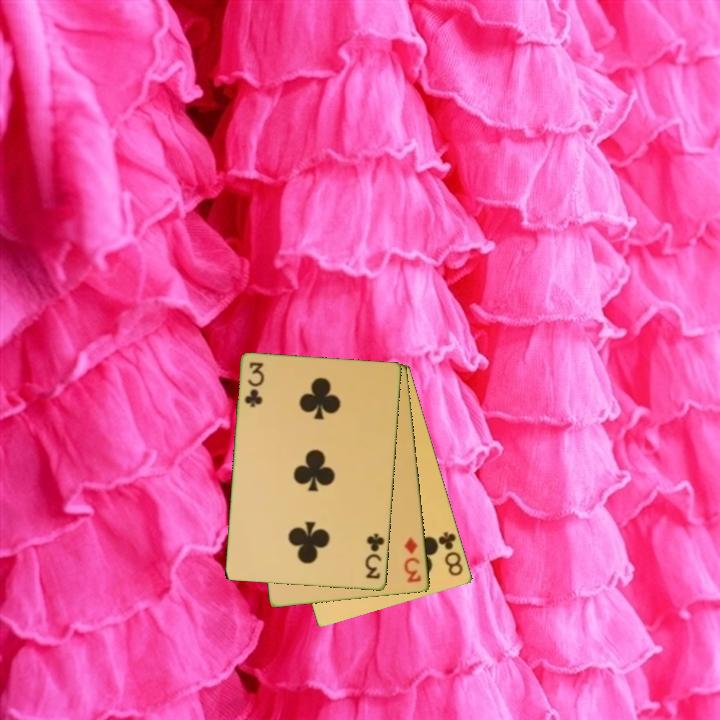3c: (362, 530, 387, 582), (242, 359, 266, 411)
3d: (401, 534, 424, 586)
8c: (435, 528, 466, 579)
